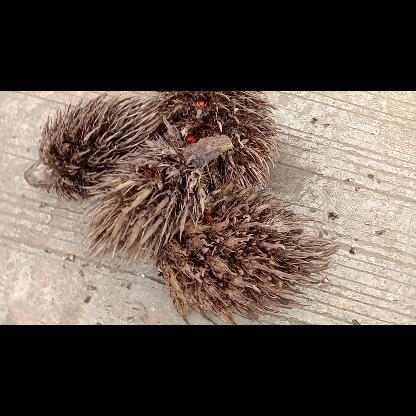Janjang kosong: (158, 186, 336, 324), (83, 132, 233, 266), (23, 91, 161, 201), (158, 91, 278, 189)
